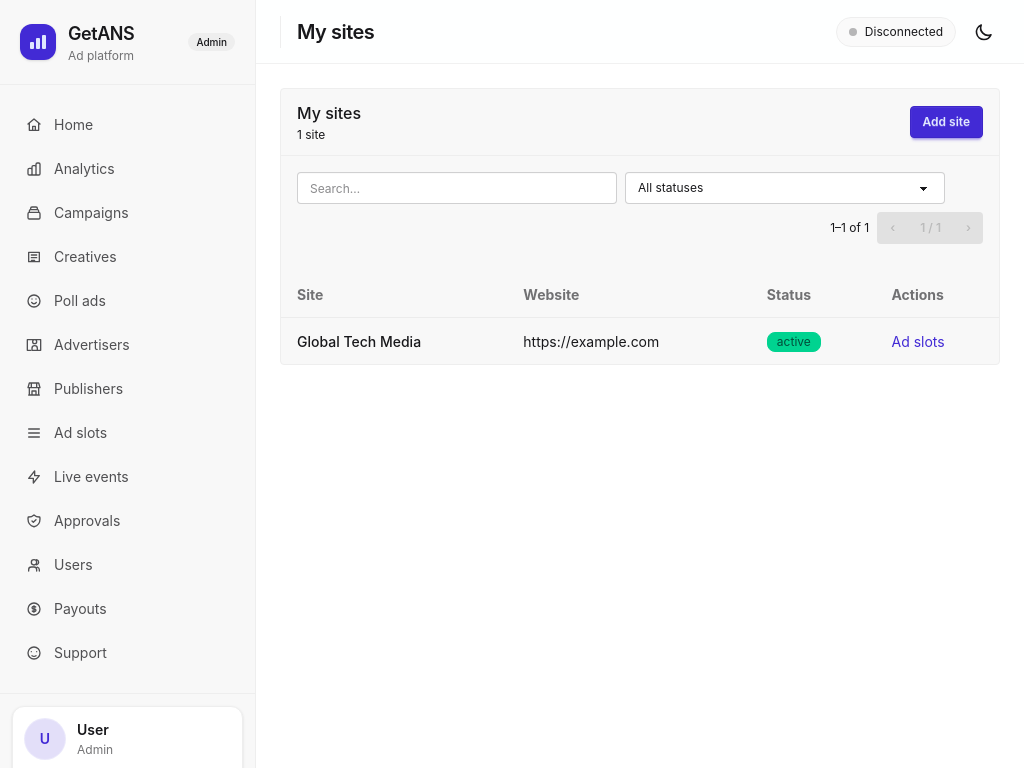
PublishersPage gaps › uses a generic message when creating a publisher rejects with a non-Error
expect the text "Global Tech Media" is shown: met, box 281,318 -> 507,364
Click the button "Add site": (946, 122) 910,106 -> 983,138
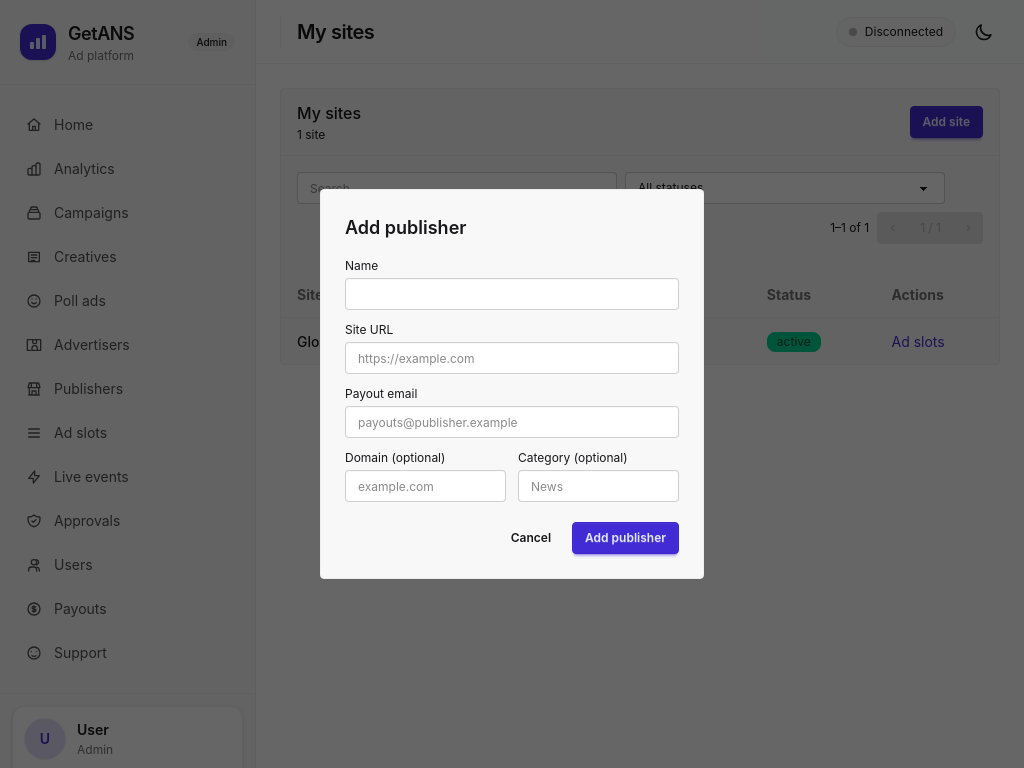
In the field labelled "Name": (512, 294) 345,278 -> 679,310, type "New Site"
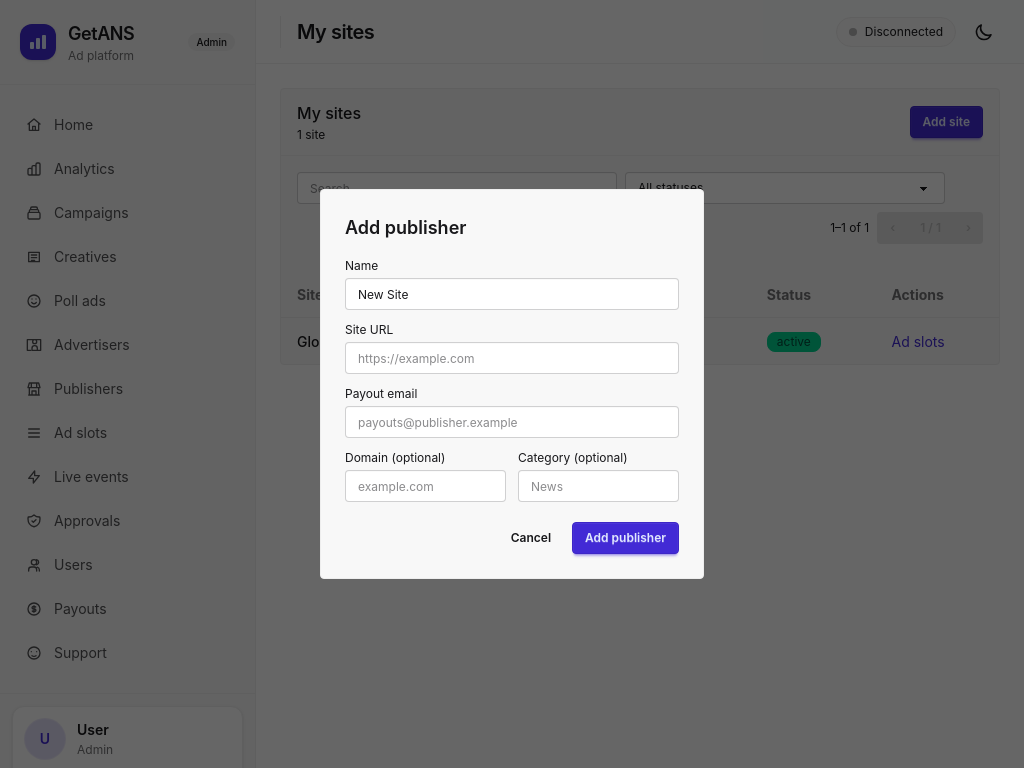
In the field labelled "Site URL": (512, 358) 345,342 -> 679,374, type "https://new.example.com"
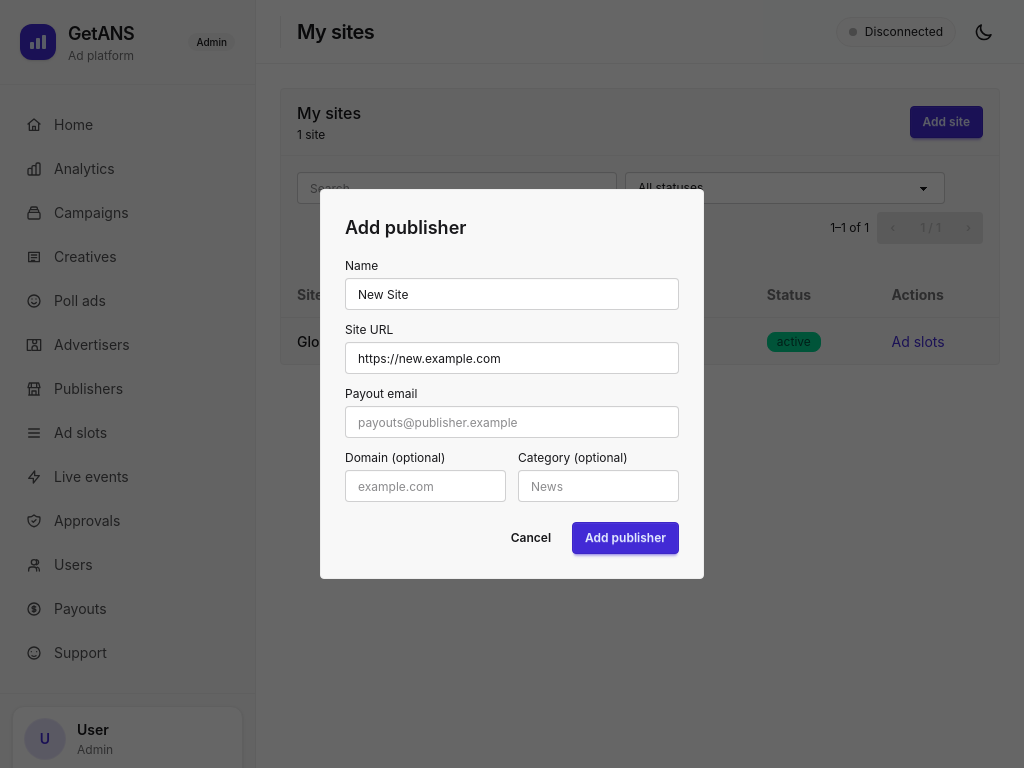
In the field labelled "Payout email": (512, 422) 345,406 -> 679,438, type "money@new.example.com"
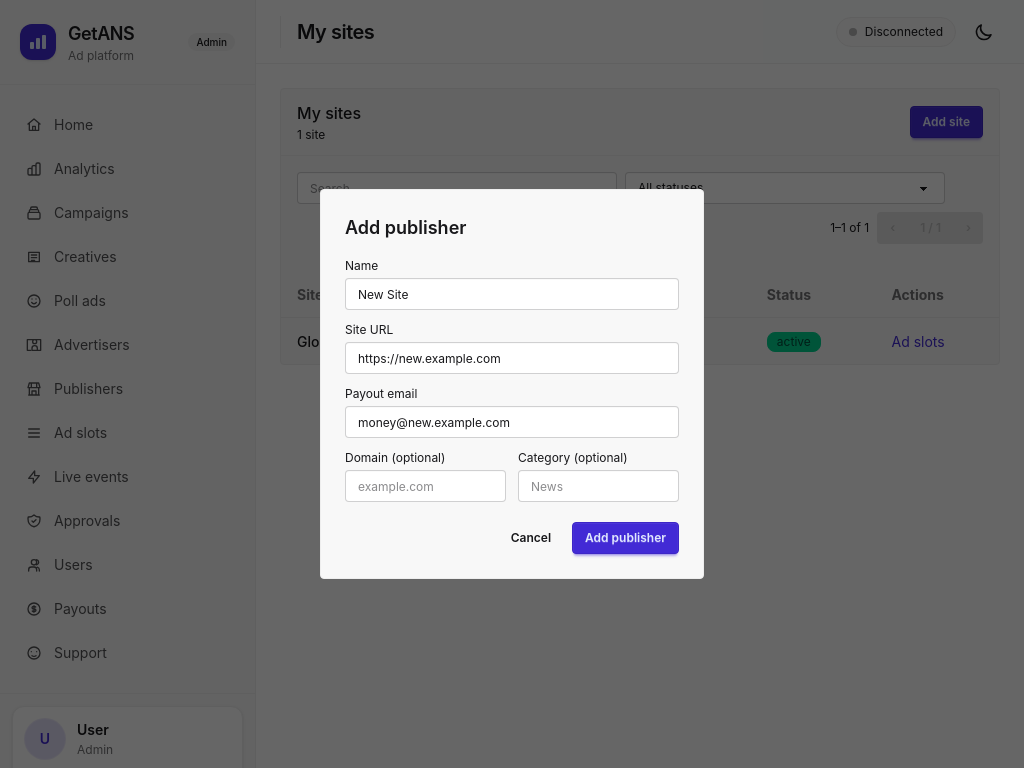
Submit the form named "Add publisher", box 345,258 -> 679,554
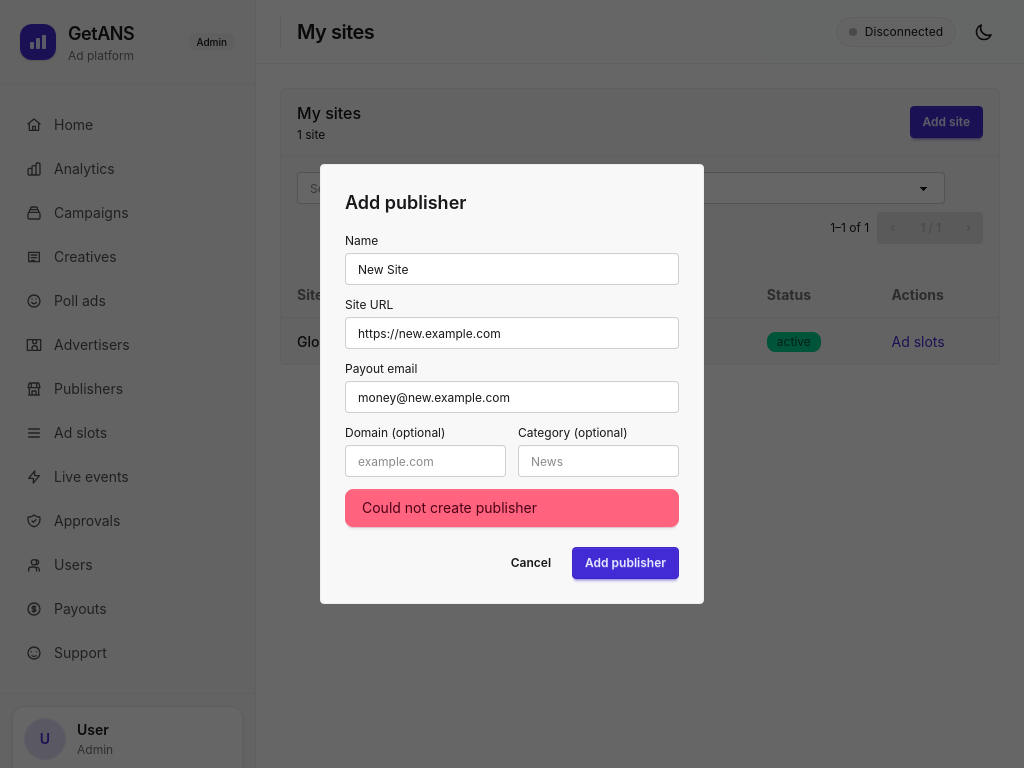
expect the message reads "Could not create publisher": met, box 362,499 -> 537,516
